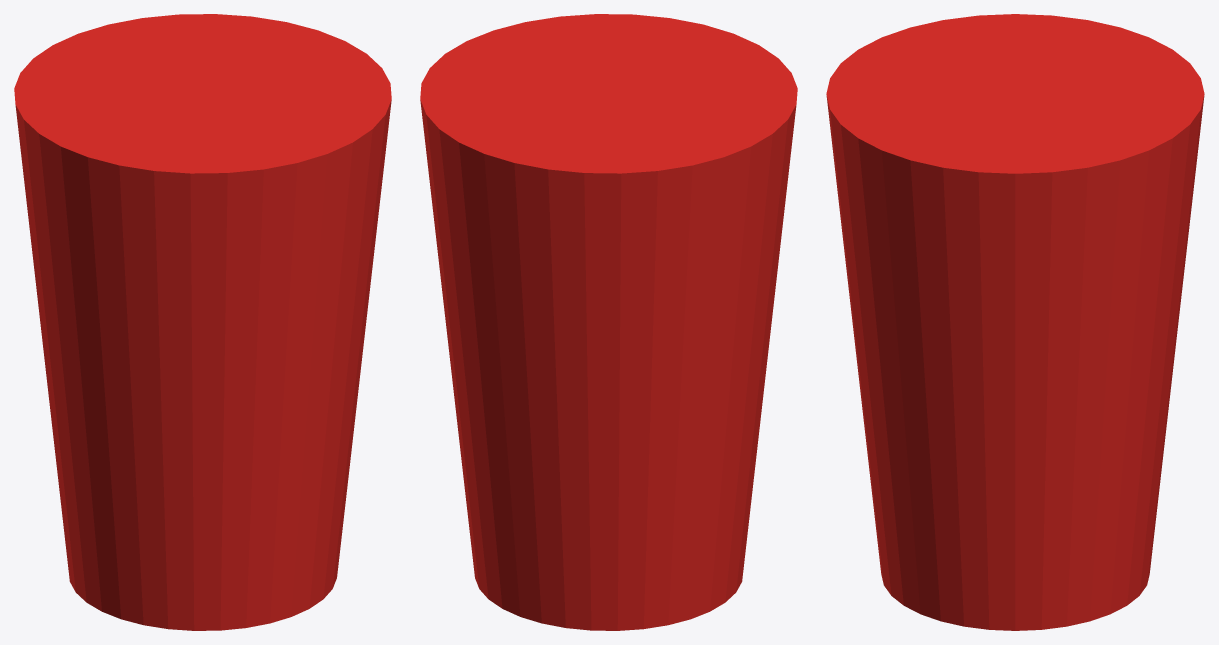
Rendered from Filler.fbx.
3 views of the same model, side by side, from view 1: azimuth 30°, elevation 25°; view 2: azimuth 150°, elevation 25°; view 3: azimuth 270°, elevation 25° (orthographic).
Parts seen in each view (by area): view 1: Cylinder.003; view 2: Cylinder.003; view 3: Cylinder.003.
Part boxes in pixels (x1,y1,x2,y2): Cylinder.003: (14,14,391,630); Cylinder.003: (420,14,797,630); Cylinder.003: (826,14,1204,630).
Bounding box in the file's own units: 303 × 425 × 303.
